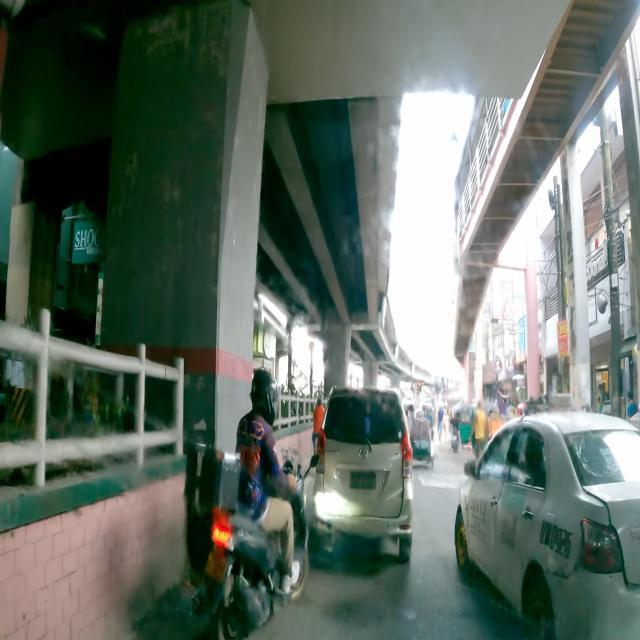car: (454, 394, 640, 640), (313, 388, 413, 562)
motorcycle: (186, 370, 320, 640), (424, 408, 436, 441)
tricycle: (411, 418, 434, 468)
